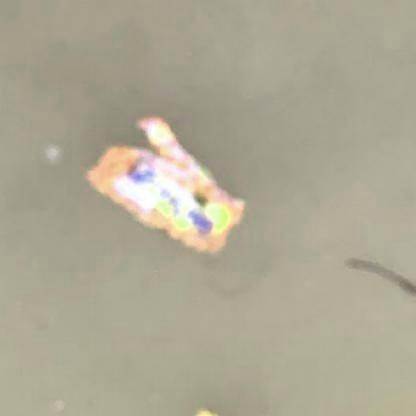Trash: (79, 108, 251, 260)
